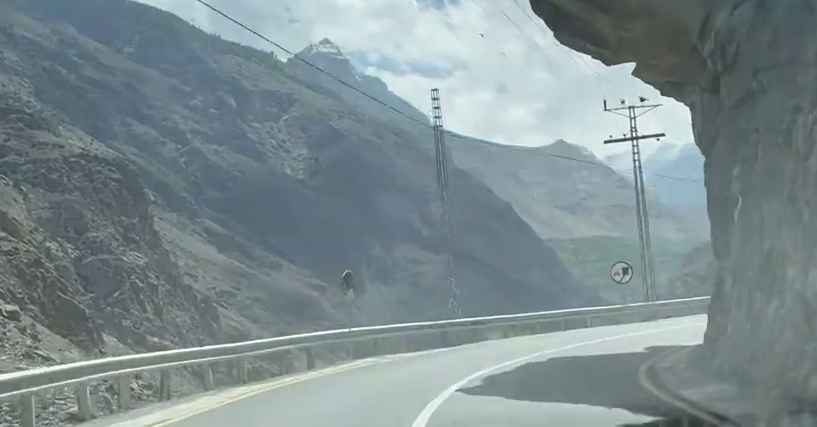stright: (343, 320, 775, 427)
